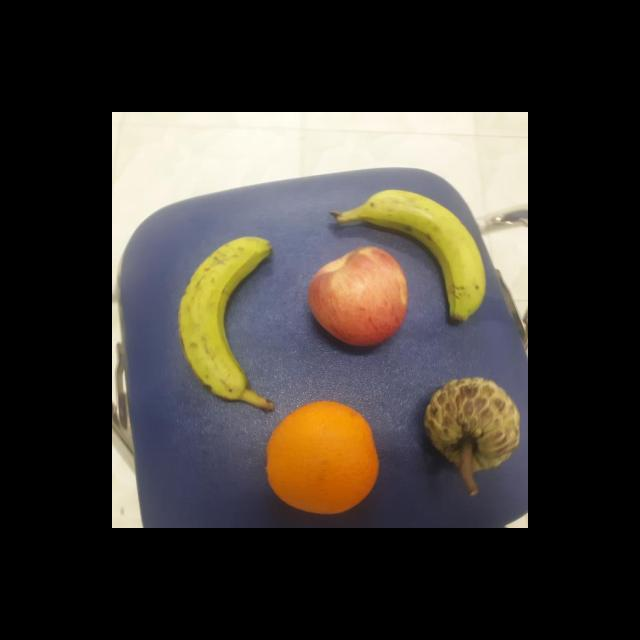Sakya fruit: (421, 374, 521, 472)
apple: (304, 242, 408, 350)
banana: (171, 230, 282, 398), (368, 184, 489, 320)
orange: (266, 401, 380, 515)
